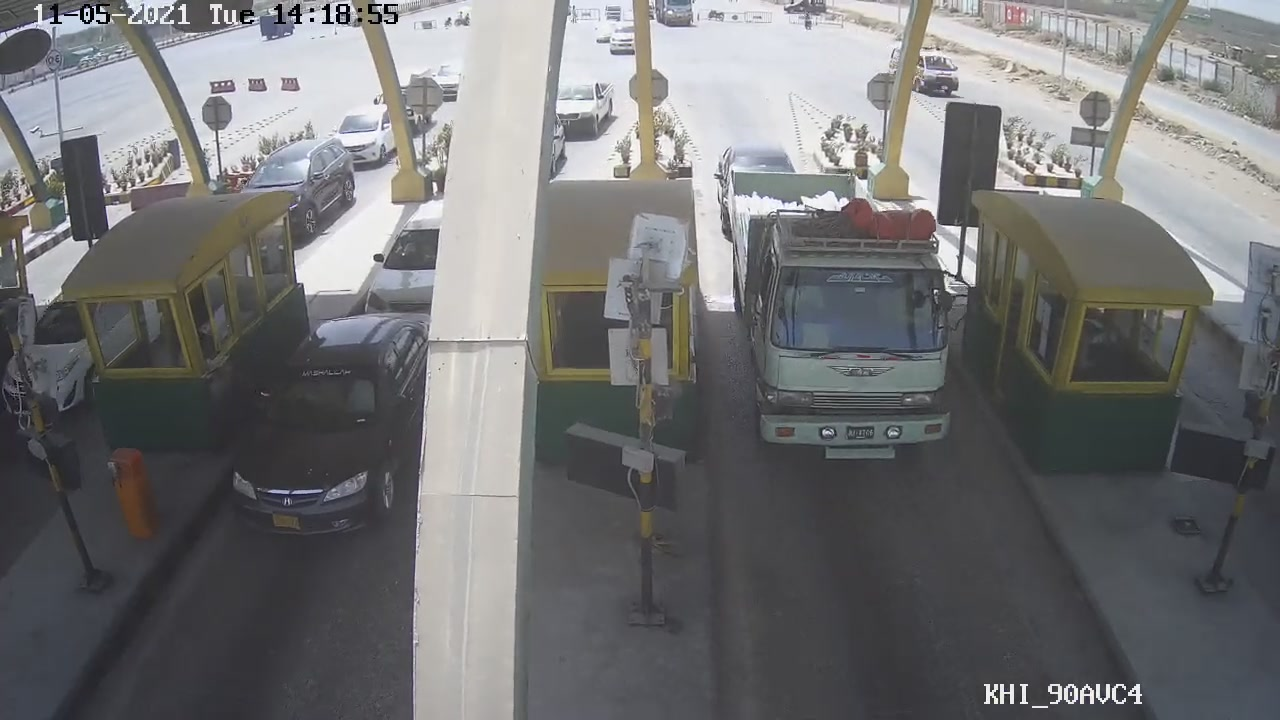F5: (719, 175, 964, 470)
